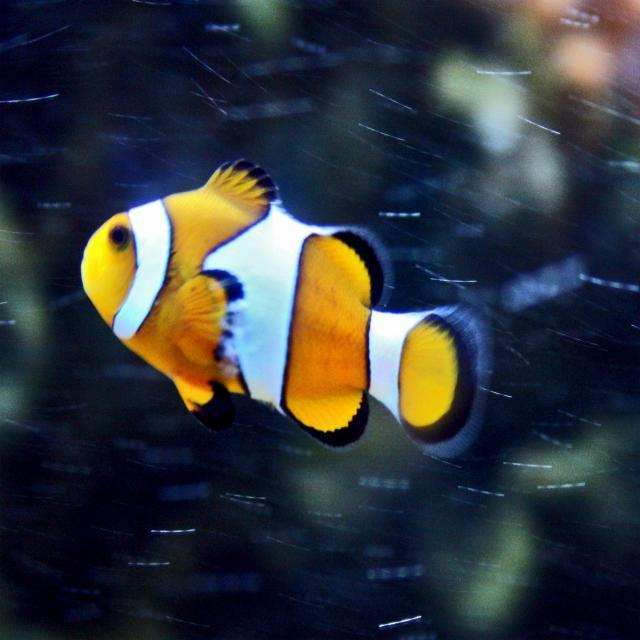ClownFish: (84, 156, 490, 454)
